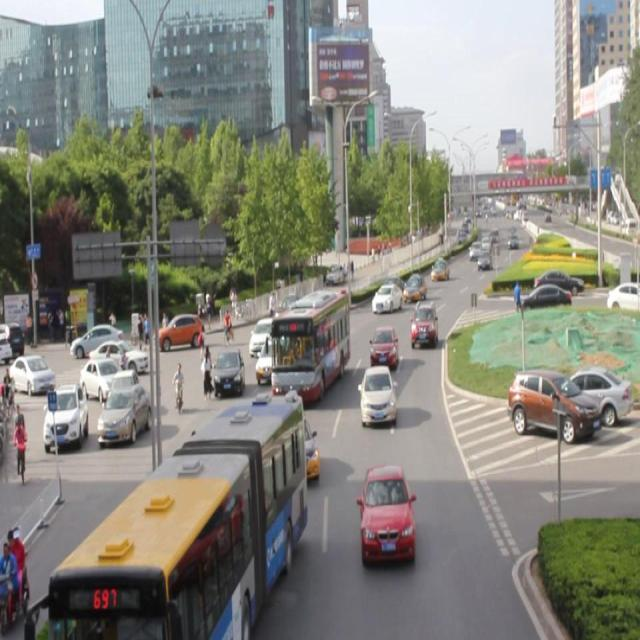car: (360, 465, 414, 560), (273, 408, 320, 476), (359, 365, 395, 424), (211, 337, 245, 392), (255, 335, 294, 376), (248, 308, 281, 351), (280, 303, 313, 346), (409, 298, 437, 346), (370, 324, 398, 368), (370, 282, 400, 314), (402, 274, 425, 302), (379, 274, 403, 300)
van: (50, 396, 300, 640), (271, 288, 348, 393)
